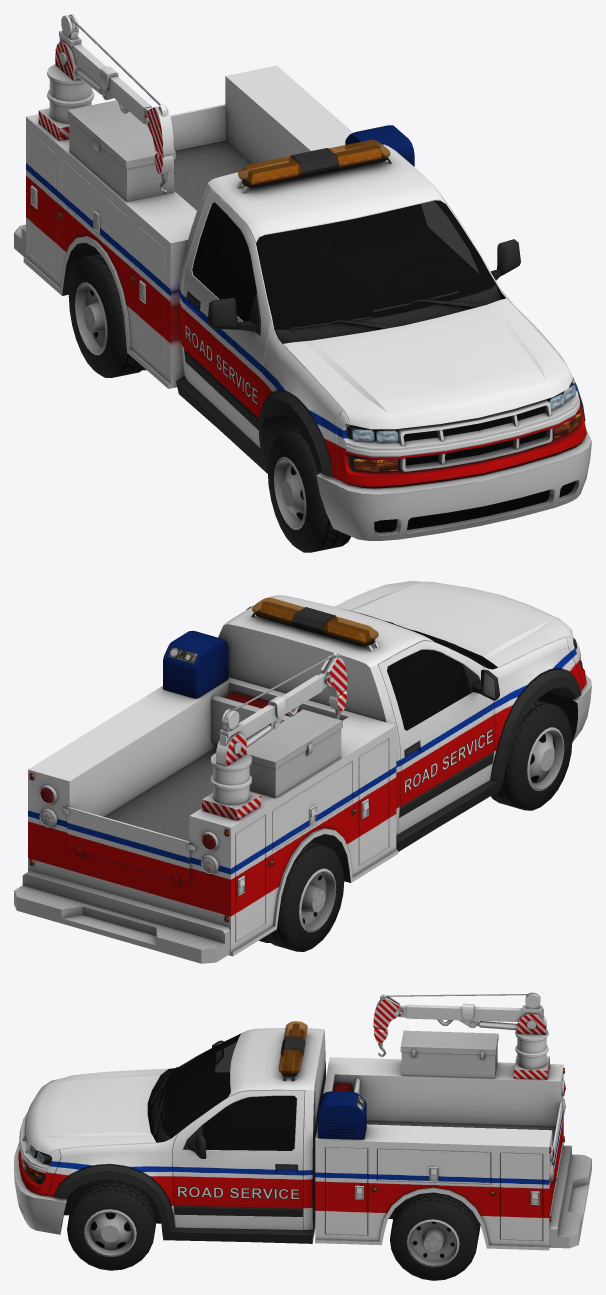
Rendered from worktruck.glb.
The picture shows the model from 3 angles, top to bottom: view 1: azimuth 30°, elevation 25°; view 2: azimuth 150°, elevation 25°; view 3: azimuth 270°, elevation 25°; orthographic projection. The views are drawn at different scales.
Visible parts, largest first — view 1: body_0, body_2, wheel_3, wheel_1, body_4, body_1, body_3; view 2: body_0, wheel_3, wheel_1, body_2, body_1, body_4, body_3; view 3: body_0, body_2, wheel_0, wheel_2, body_1, body_3, body_4.
Boxes of the visible parts, x1=… form: body_0: x1=14, y1=14, x2=591, y2=540; body_2: x1=192, y1=200, x2=496, y2=329; wheel_3: x1=267, y1=428, x2=351, y2=552; wheel_1: x1=68, y1=253, x2=146, y2=377; body_4: x1=57, y1=147, x2=581, y2=471; body_1: x1=238, y1=140, x2=390, y2=186; body_3: x1=185, y1=324, x2=257, y2=405; body_0: x1=14, y1=581, x2=591, y2=963; wheel_3: x1=491, y1=700, x2=572, y2=810; wheel_1: x1=259, y1=841, x2=344, y2=951; body_2: x1=345, y1=609, x2=485, y2=730; body_1: x1=252, y1=597, x2=378, y2=644; body_4: x1=29, y1=604, x2=370, y2=922; body_3: x1=404, y1=728, x2=493, y2=793; body_0: x1=14, y1=992, x2=591, y2=1250; body_2: x1=158, y1=1034, x2=296, y2=1150; wheel_0: x1=67, y1=1180, x2=156, y2=1270; wheel_2: x1=390, y1=1192, x2=480, y2=1280; body_1: x1=278, y1=1021, x2=307, y2=1075; body_3: x1=177, y1=1186, x2=299, y2=1199; body_4: x1=26, y1=1026, x2=565, y2=1221.
Bounding box in the file's own units: 2.27 × 2.19 × 5.32.
Materials: 5 (5 with a texture image).
